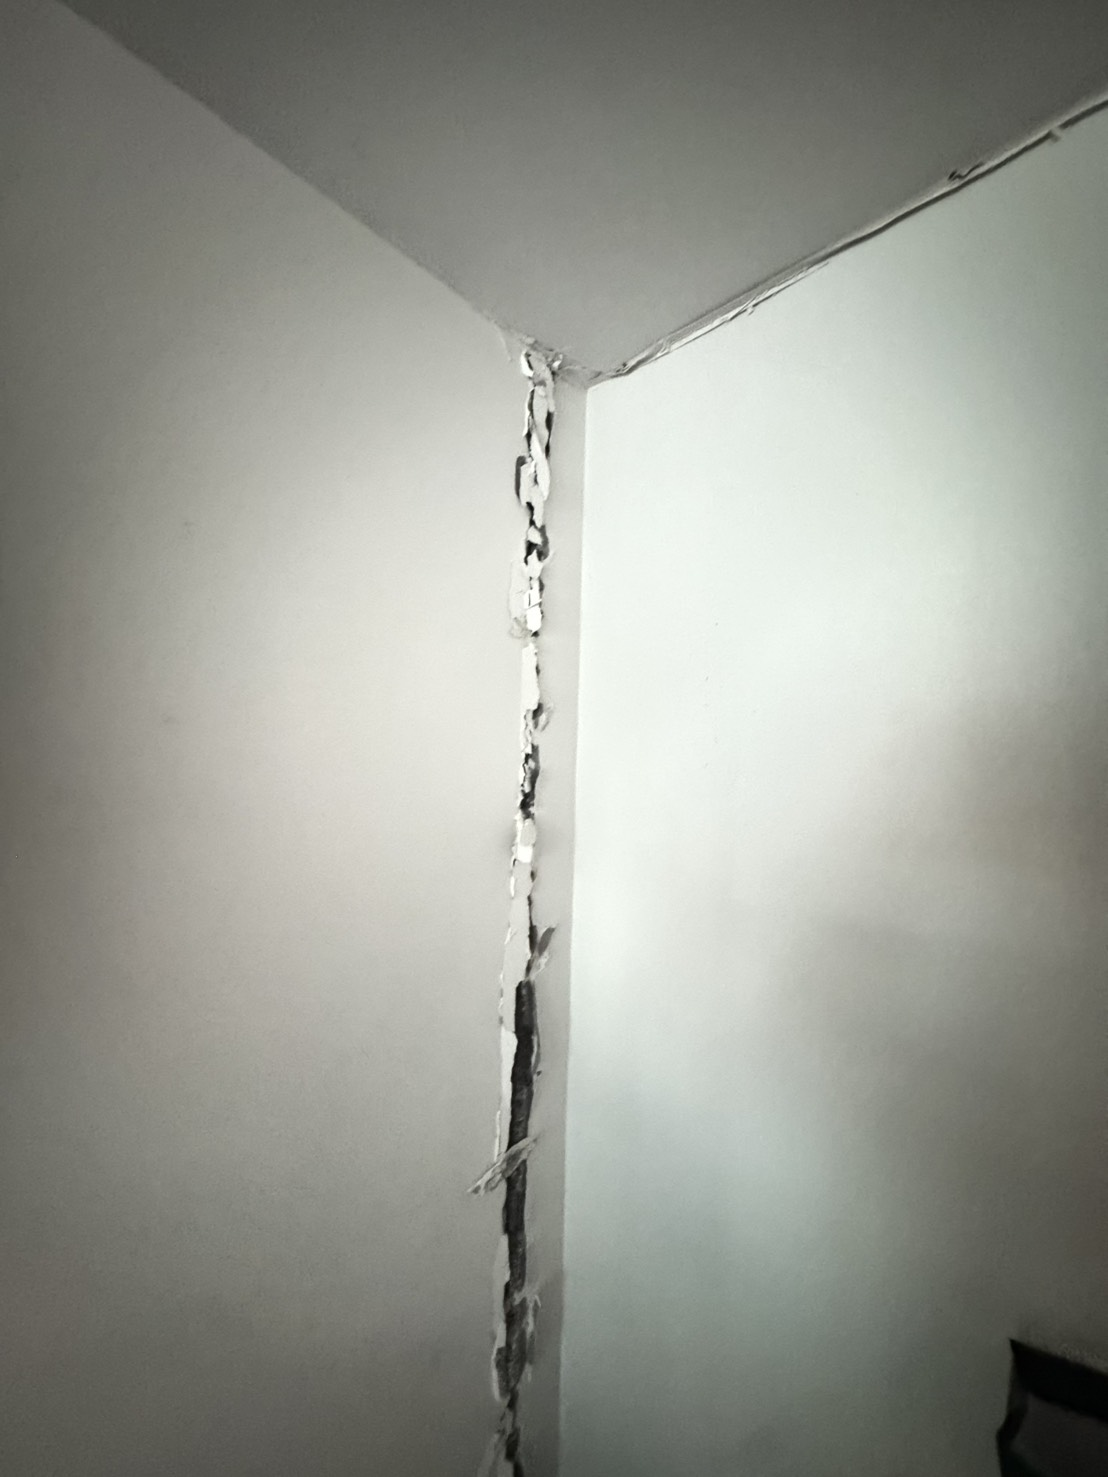Medium: (407, 297, 612, 1435)
